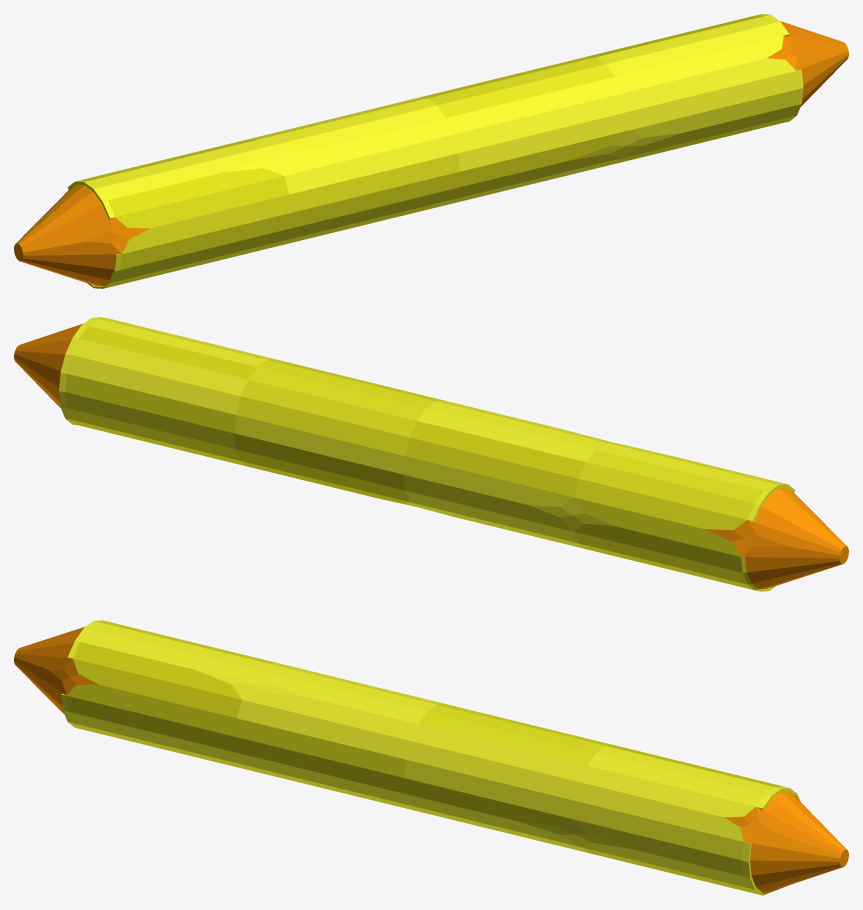
Rendered from Log_9.fbx.
The picture shows the model from 3 angles, top to bottom: view 1: azimuth 30°, elevation 25°; view 2: azimuth 150°, elevation 25°; view 3: azimuth 330°, elevation 25°; orthographic projection.
Visible parts, largest first — view 1: Circle.308; view 2: Circle.308; view 3: Circle.308.
Part boxes in pixels (box(x1,y1,x2,y2)): Circle.308: box(14, 14, 848, 288); Circle.308: box(14, 317, 848, 591); Circle.308: box(14, 620, 848, 895).
Bounding box in the file's own units: 220 × 25.3 × 25.71.
